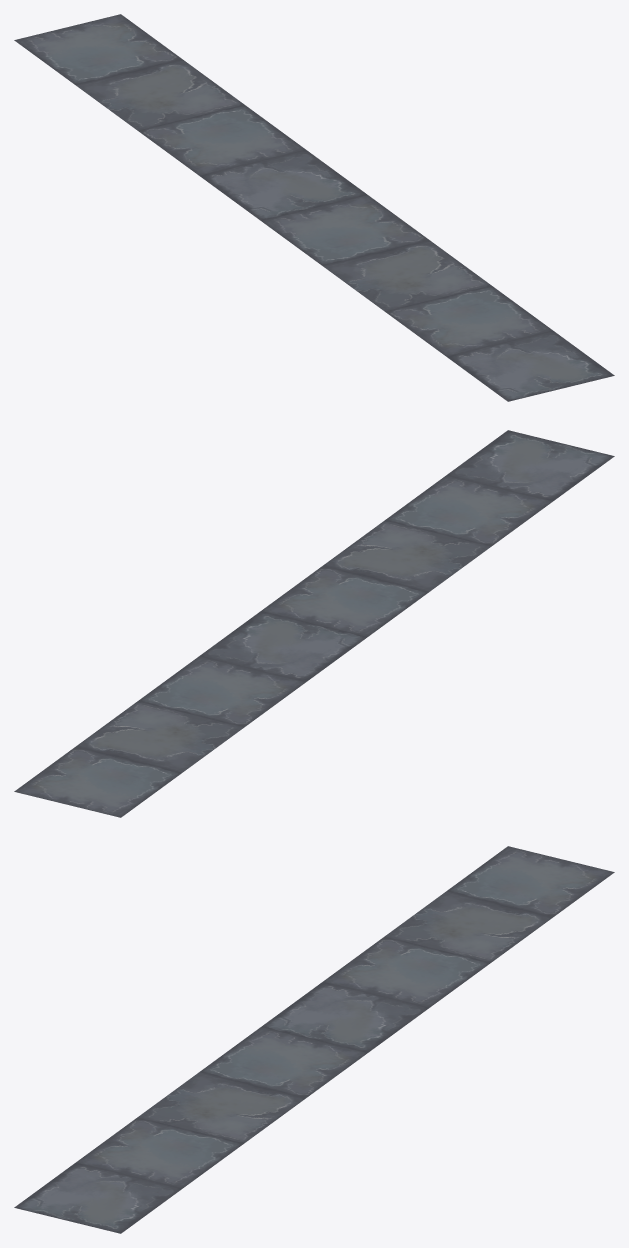
Rendered from Castle Ground + Bright 1x8.fbx.
3 renders of one model, top to bottom at view 1: azimuth 30°, elevation 25°; view 2: azimuth 150°, elevation 25°; view 3: azimuth 330°, elevation 25°, orthographic.
Visible parts, largest first — view 1: Castle Ground + Bright 1x8; view 2: Castle Ground + Bright 1x8; view 3: Castle Ground + Bright 1x8.
Boxes of the visible parts, left/top/right/bottom form: Castle Ground + Bright 1x8: left=14, top=14, right=614, bottom=401; Castle Ground + Bright 1x8: left=14, top=430, right=614, bottom=817; Castle Ground + Bright 1x8: left=14, top=846, right=614, bottom=1233.
Size of the model in its own units: 0.75 by 6.5e-07 by 6.
